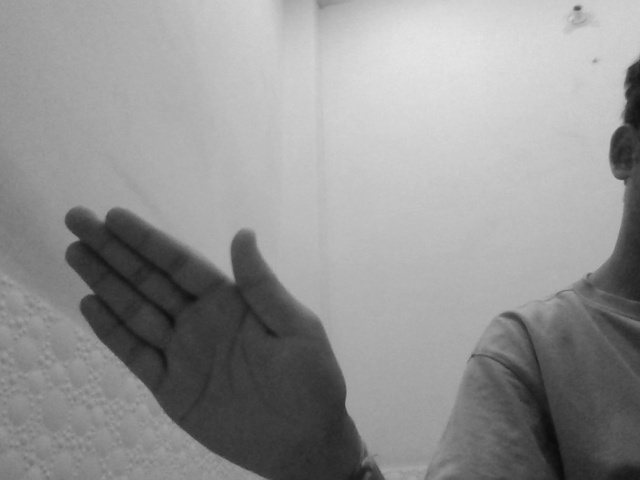Hello: (47, 199, 357, 474)
